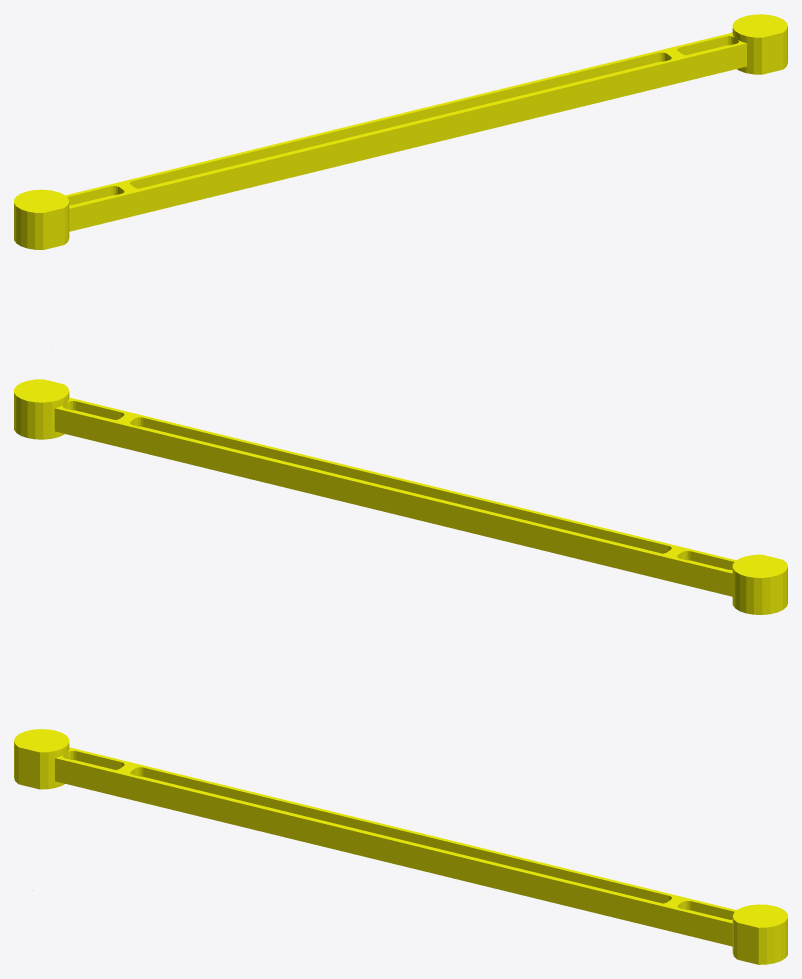
3 views of the same model, one above another, from view 1: azimuth 30°, elevation 25°; view 2: azimuth 150°, elevation 25°; view 3: azimuth 330°, elevation 25° (orthographic).
Parts seen in each view (by area): view 1: node; view 2: node; view 3: node.
Part boxes in pixels (x1=…): node: x1=14, y1=14, x2=787, y2=350; node: x1=14, y1=379, x2=787, y2=614; node: x1=14, y1=729, x2=787, y2=964.
Size of the model in its own units: 1387 by 246 by 82.5.
